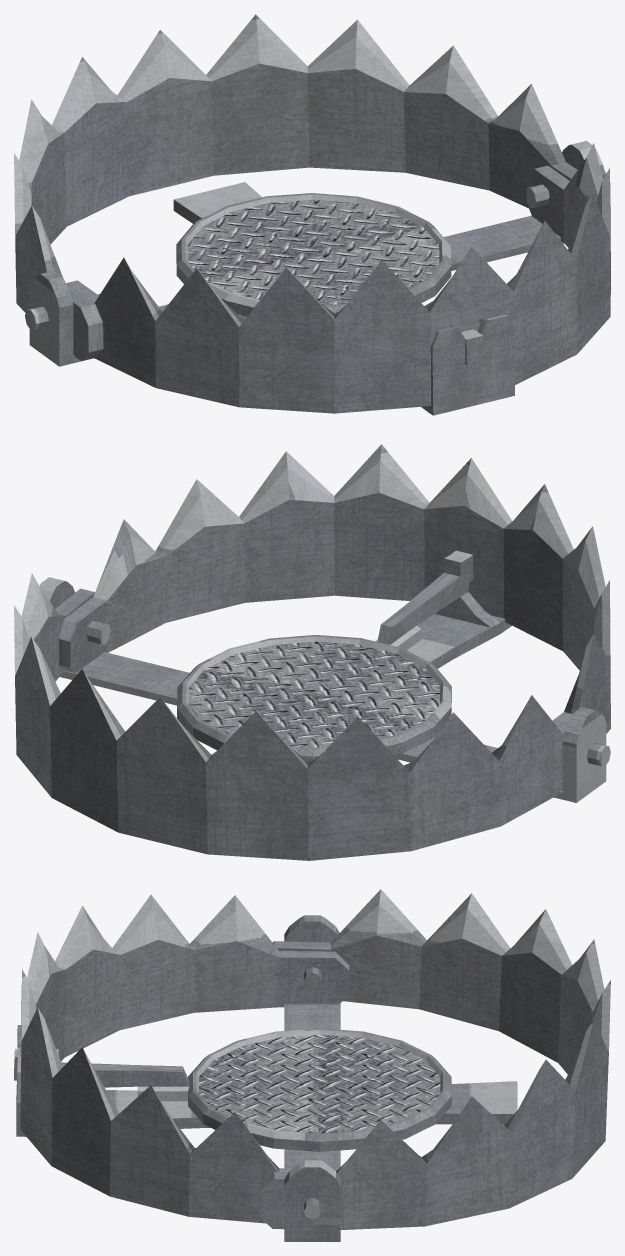
Rendered from Trampa.obj.
The picture shows the model from 3 angles, top to bottom: view 1: azimuth 30°, elevation 25°; view 2: azimuth 150°, elevation 25°; view 3: azimuth 270°, elevation 25°; orthographic projection. The views are drawn at different scales.
Visible parts, largest first — view 1: Trampa_obj:TrapBase1; view 2: Trampa_obj:TrapBase1; view 3: Trampa_obj:TrapBase1.
Boxes of the visible parts, <box> form: Trampa_obj:TrapBase1: <box>14,14,610,415</box>; Trampa_obj:TrapBase1: <box>14,444,610,860</box>; Trampa_obj:TrapBase1: <box>14,889,610,1241</box>.
Bounding box in the file's own units: 3.48 × 0.9265 × 3.31.
3 materials, 3 textured.
